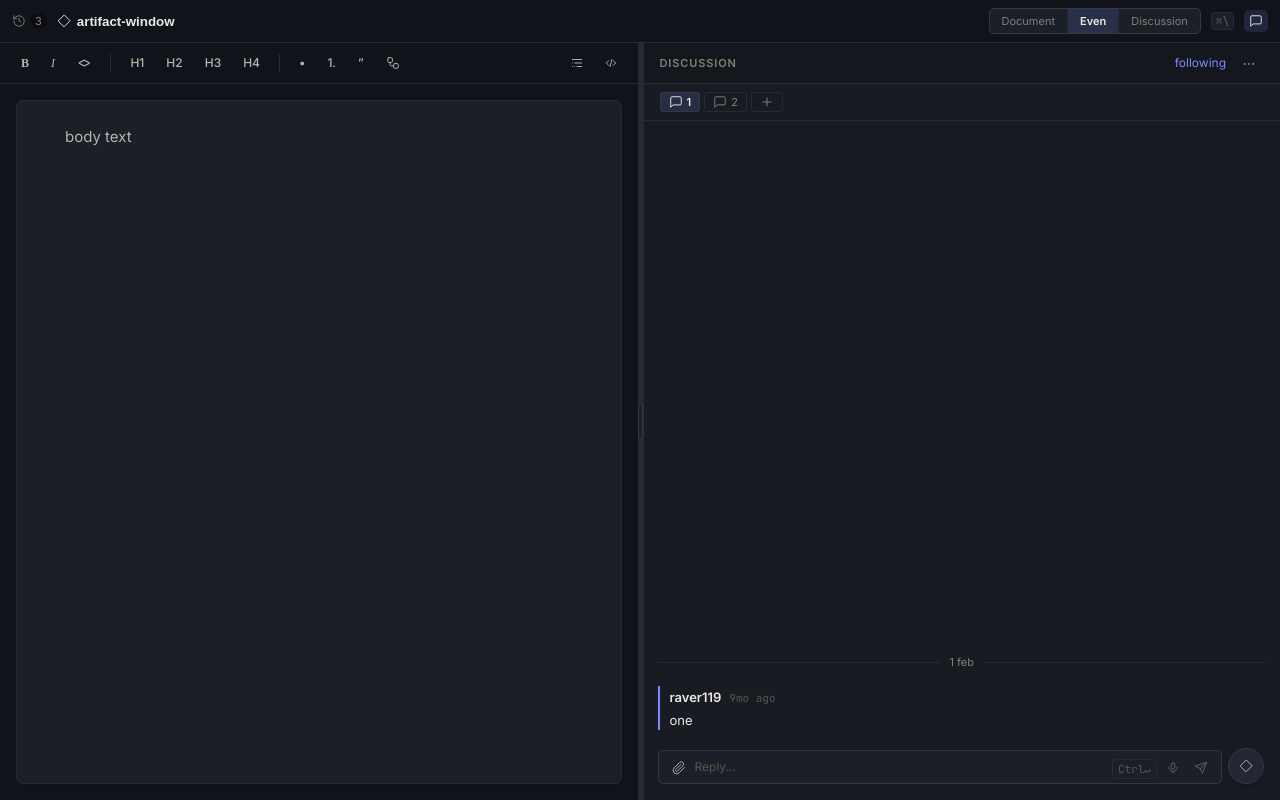
Test: New Artifact discussions (NAW-FR-31 … NAW-FR-34, CMT-FR-52 … CMT-FR-55) › CMT-FR-17, CMT-FR-56: a resolved discussion leaves the column and comes back when it is reopened
Expected: the number of tabs is 2, [660, 92, 700, 112]; [704, 92, 747, 112]
Step 1. Click the button named "Thread actions for disc-1" → (1249, 63), box [1234, 49, 1264, 77]
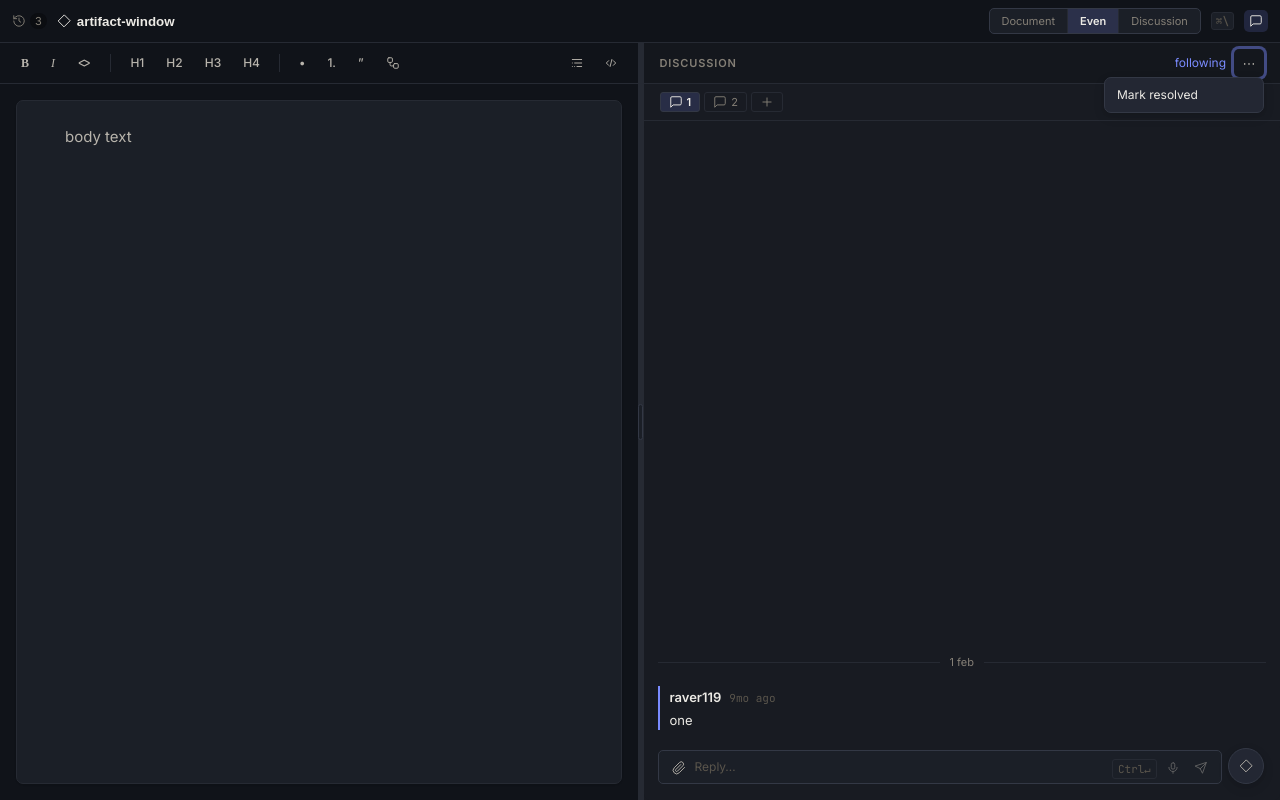
Step 2. Click the menu item "Mark resolved" → (1184, 95), box [1109, 82, 1259, 108]
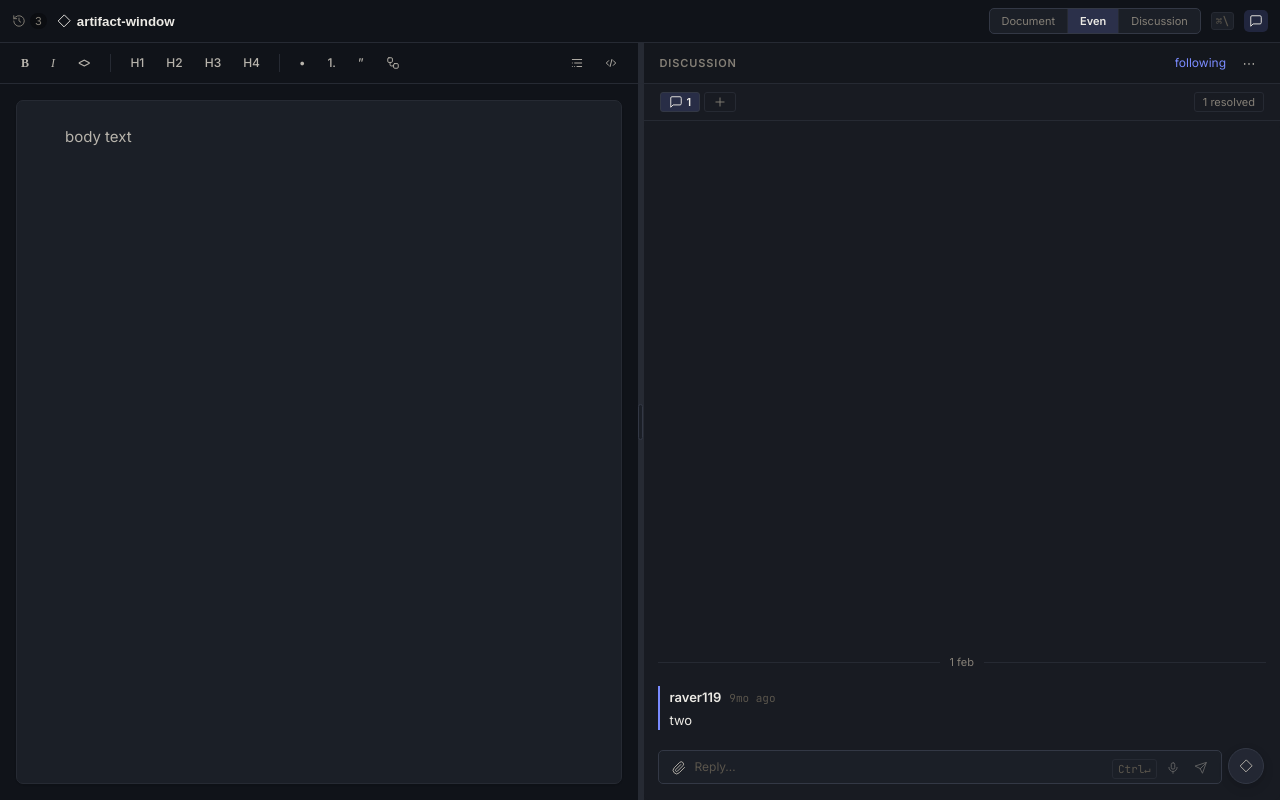
Expected: the number of tabs is 1, [660, 92, 700, 112]
Expected: the element with test id "comment-thread-disc-2" is shown, [644, 121, 1279, 799]
